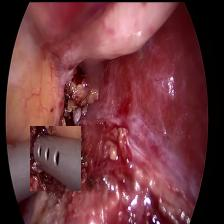Irrigator: (29, 125, 80, 190)
